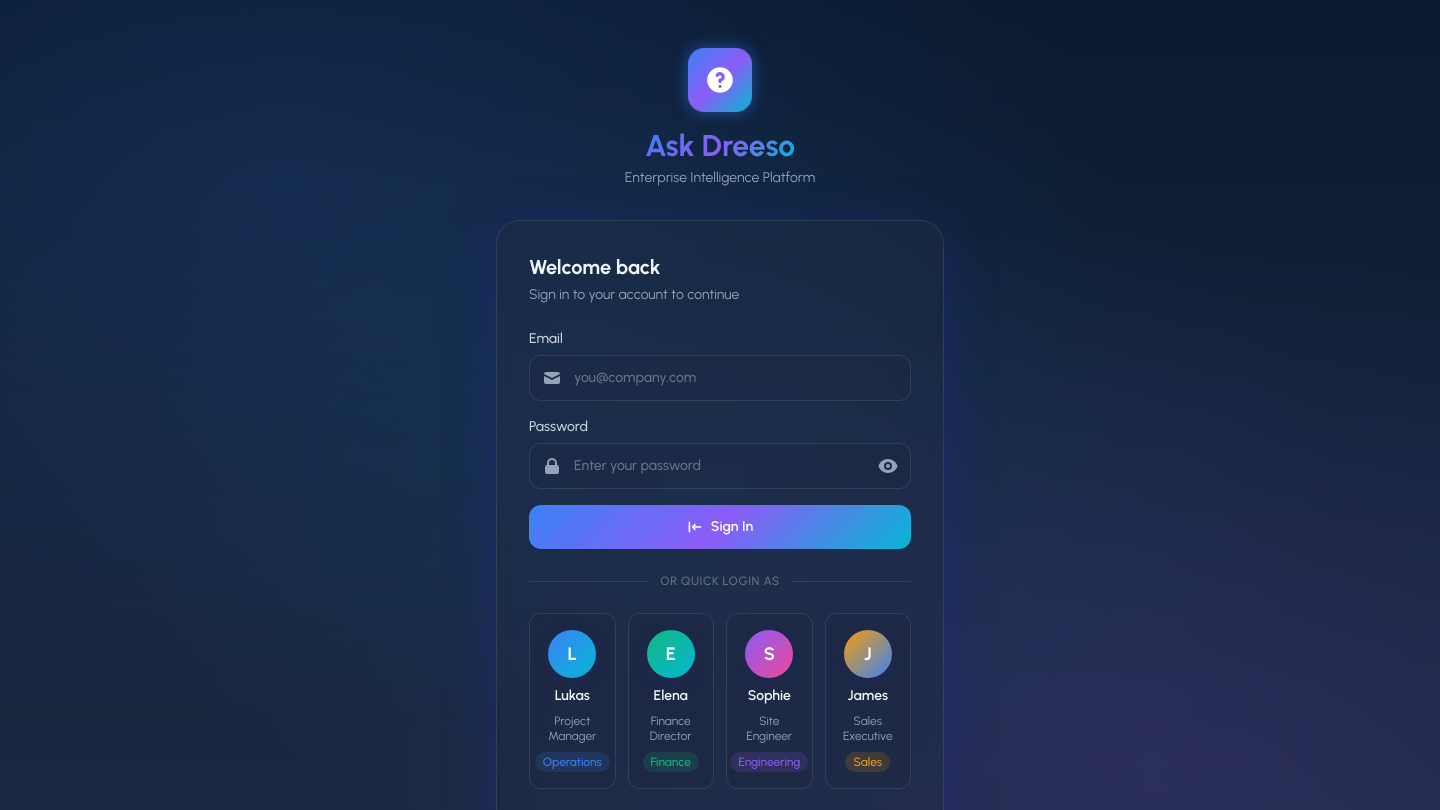
Test: LoginPage › form interaction › disables persona quick login buttons while login is in progress
This screenshot has width=1440, height=810.
Click the button with aria-label "quick login as lukas" at {"x": 572, "y": 701}, box x1=529 y1=613 x2=616 y2=789
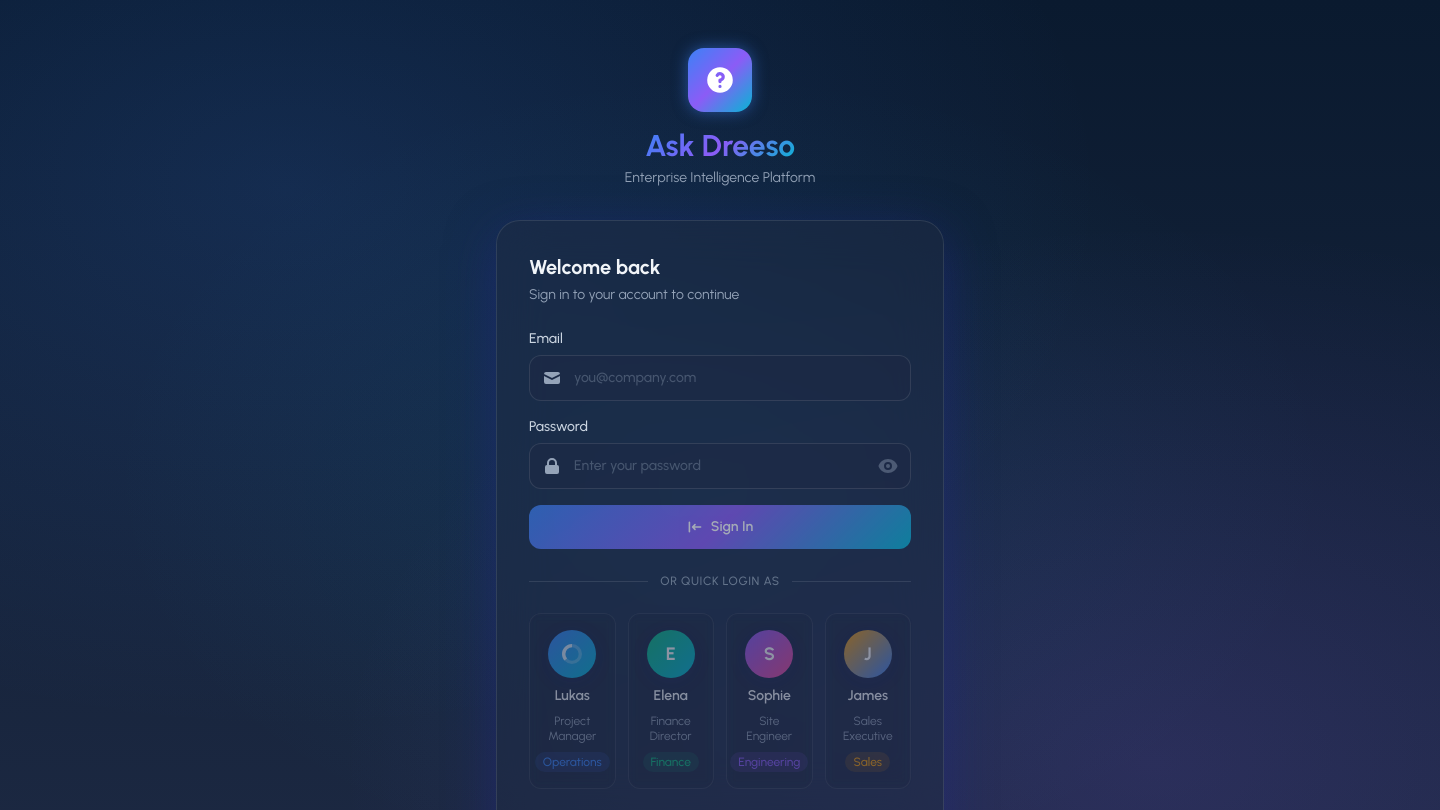
Now the button with aria-label "quick login as elena" is disabled, box x1=628 y1=613 x2=714 y2=789
Now the button with aria-label "quick login as sophie" is disabled, box x1=726 y1=613 x2=812 y2=789
Now the button with aria-label "quick login as james" is disabled, box x1=824 y1=613 x2=911 y2=789
